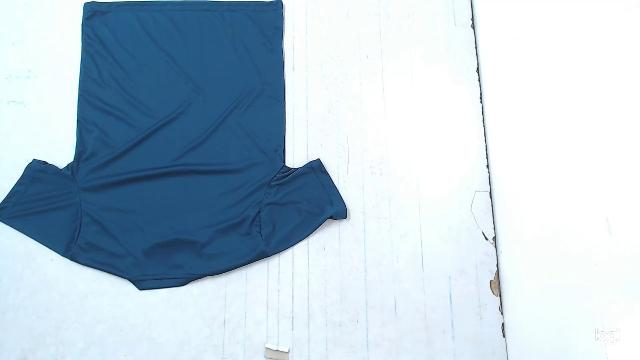new-garment: (0, 0, 347, 289)
